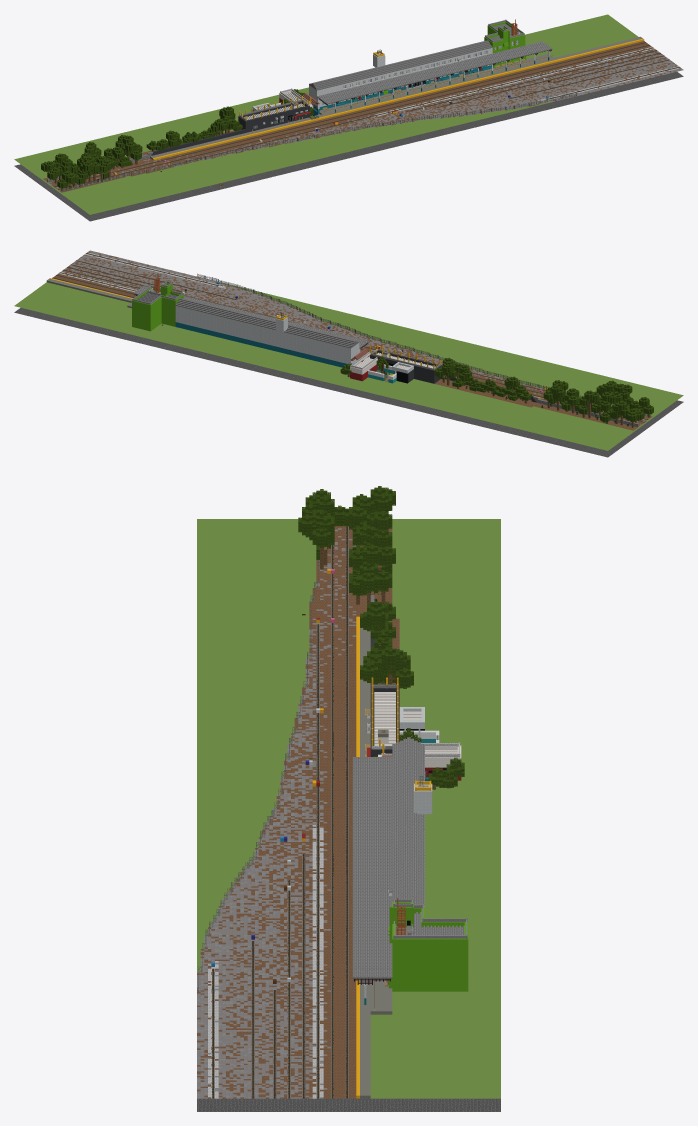
File: Governador Valadares.fbx
The picture shows the model from 3 angles, top to bottom: view 1: azimuth 30°, elevation 25°; view 2: azimuth 150°, elevation 25°; view 3: azimuth 270°, elevation 25°; orthographic projection. The views are drawn at different scales.
Visible parts, largest first — view 1: chisel_block_road_white_concrete_proxy.001, chisel_block_ctm_french_red_concrete_0, chisel_block_happy_dirt_proxy, minecraft_block_andesite_proxy.005, createdeco_block_palettes_catwalks_brass_catwalk_rail, minecraft_block_andesite_proxy.004, minecraft_block_grass_block_top_BIOME.001, minecraft_block_bedrock.001, minecraft_block_grass_block_top_BIOME.007, minecraft_block_andesite_proxy.002; view 2: chisel_block_ctm_french_red_concrete_0, chisel_block_road_white_concrete_proxy.001, chisel_block_happy_dirt_proxy, minecraft_block_andesite_proxy.005, createdeco_block_palettes_catwalks_brass_catwalk_rail, minecraft_block_andesite_proxy.004, minecraft_block_bedrock.001, minecraft_block_grass_block_top_BIOME.001, minecraft_block_grass_block_top_BIOME.007, minecraft_block_andesite_proxy.002; view 3: chisel_block_road_white_concrete_proxy.001, chisel_block_happy_dirt_proxy, chisel_block_ctm_french_red_concrete_0, minecraft_block_andesite_proxy.005, createdeco_block_palettes_catwalks_brass_catwalk_rail, minecraft_block_bedrock.001, minecraft_block_andesite_proxy.004, minecraft_block_grass_block_top_BIOME.001, minecraft_block_grass_block_top_BIOME.007, minecraft_block_andesite_proxy.002.
Boxes of the visible parts, x1,y1,x2,y2 form: chisel_block_road_white_concrete_proxy.001: [400, 19, 572, 118]; chisel_block_ctm_french_red_concrete_0: [255, 49, 447, 149]; chisel_block_happy_dirt_proxy: [130, 100, 321, 179]; minecraft_block_andesite_proxy.005: [14, 131, 196, 214]; createdeco_block_palettes_catwalks_brass_catwalk_rail: [525, 14, 674, 88]; minecraft_block_andesite_proxy.004: [448, 88, 581, 131]; minecraft_block_grass_block_top_BIOME.001: [322, 119, 456, 162]; minecraft_block_bedrock.001: [197, 149, 330, 192]; minecraft_block_grass_block_top_BIOME.007: [81, 180, 205, 221]; minecraft_block_andesite_proxy.002: [573, 63, 683, 101]; chisel_block_ctm_french_red_concrete_0: [241, 311, 433, 398]; chisel_block_road_white_concrete_proxy.001: [116, 273, 307, 367]; chisel_block_happy_dirt_proxy: [367, 343, 558, 428]; minecraft_block_andesite_proxy.005: [492, 373, 674, 457]; createdeco_block_palettes_catwalks_brass_catwalk_rail: [14, 257, 181, 337]; minecraft_block_andesite_proxy.004: [183, 273, 316, 312]; minecraft_block_bedrock.001: [434, 336, 567, 373]; minecraft_block_grass_block_top_BIOME.001: [309, 306, 442, 342]; minecraft_block_grass_block_top_BIOME.007: [559, 367, 683, 408]; minecraft_block_andesite_proxy.002: [81, 250, 191, 281]; chisel_block_road_white_concrete_proxy.001: [233, 826, 500, 999]; chisel_block_happy_dirt_proxy: [233, 600, 500, 754]; chisel_block_ctm_french_red_concrete_0: [233, 720, 500, 876]; minecraft_block_andesite_proxy.005: [233, 486, 500, 632]; createdeco_block_palettes_catwalks_brass_catwalk_rail: [233, 968, 500, 1111]; minecraft_block_bedrock.001: [197, 632, 233, 754]; minecraft_block_andesite_proxy.004: [197, 877, 233, 999]; minecraft_block_grass_block_top_BIOME.001: [197, 754, 233, 876]; minecraft_block_grass_block_top_BIOME.007: [197, 519, 233, 632]; minecraft_block_andesite_proxy.002: [197, 999, 233, 1111].
Bounding box in the file's own units: 37900 × 3100 × 8400.
Materials: 100 (92 with a texture image).
